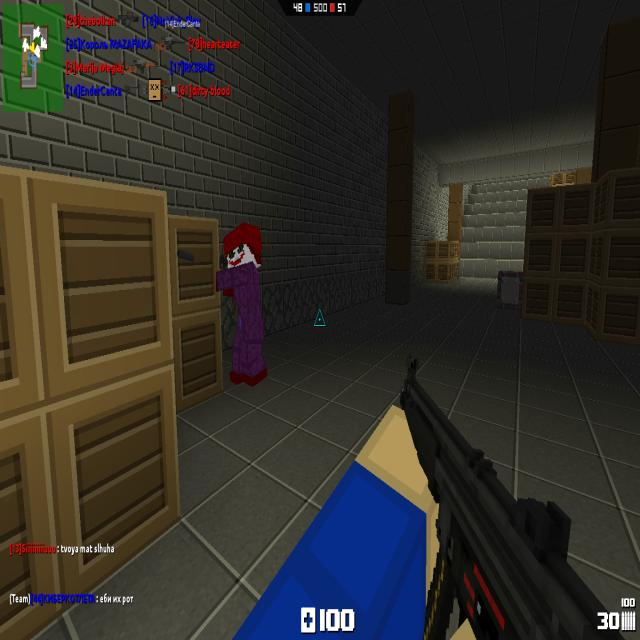enemy: (216, 220, 268, 388)
